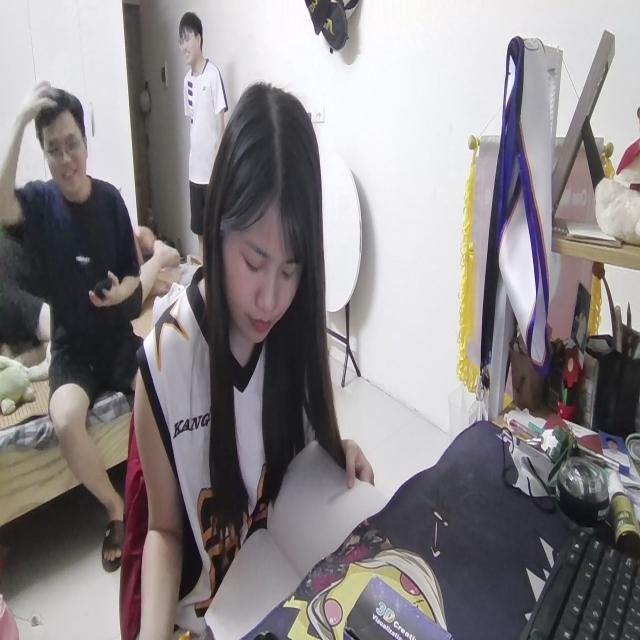book: (205, 434, 379, 640)
extra_person: (0, 74, 143, 569), (174, 11, 228, 255)
student: (137, 83, 377, 640)
